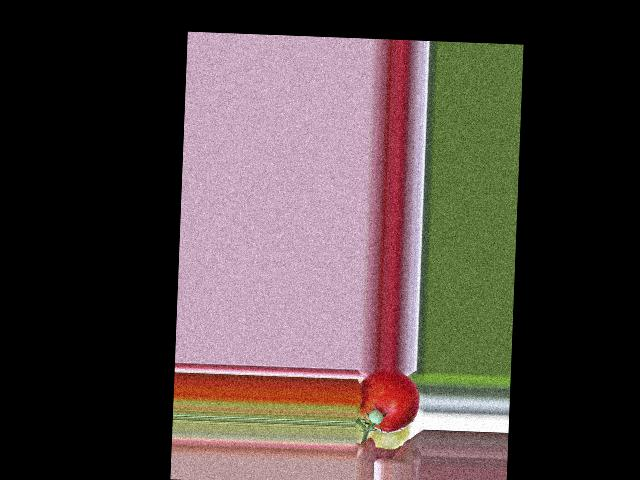tomato: (358, 368, 420, 434)
